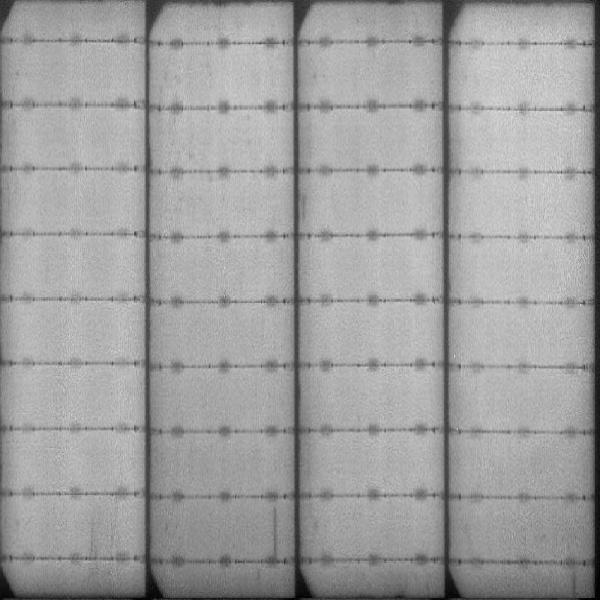scratch: (270, 510, 278, 562)
